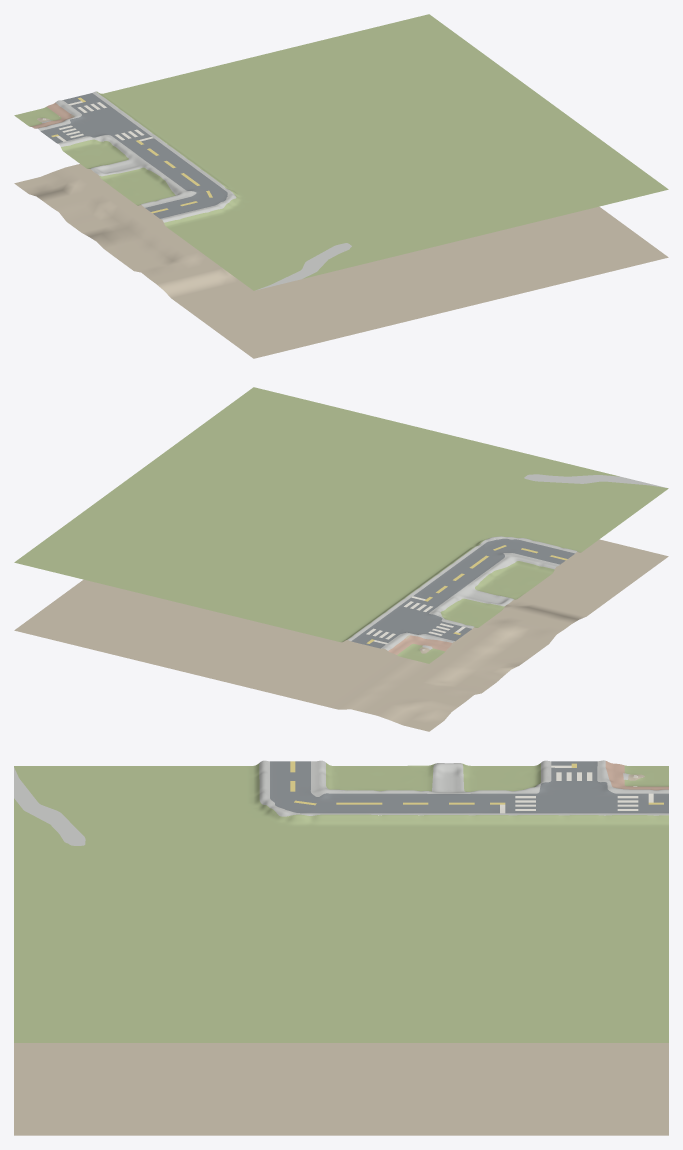
The picture shows the model from 3 angles, top to bottom: view 1: azimuth 30°, elevation 25°; view 2: azimuth 150°, elevation 25°; view 3: azimuth 270°, elevation 25°; orthographic projection. The views are drawn at different scales.
Visible parts, largest first — view 1: s_-4_5__grass, s_-4_5__soil, s_-4_5__asphalt, s_-4_5__stone_paving; view 2: s_-4_5__grass, s_-4_5__soil, s_-4_5__asphalt, s_-4_5__stone_paving, s_-4_5__brick_paving; view 3: s_-4_5__grass, s_-4_5__soil, s_-4_5__asphalt, s_-4_5__stone_paving, s_-4_5__white_marking, s_-4_5__yellow_marking, s_-4_5__brick_paving.
Boxes of the visible parts, x1,y1,x2,y2 form: s_-4_5__grass: [14, 14, 668, 290]; s_-4_5__soil: [14, 115, 668, 358]; s_-4_5__asphalt: [40, 93, 227, 218]; s_-4_5__stone_paving: [37, 91, 351, 290]; s_-4_5__grass: [14, 387, 668, 663]; s_-4_5__soil: [14, 539, 668, 731]; s_-4_5__asphalt: [351, 538, 574, 648]; s_-4_5__stone_paving: [347, 474, 666, 650]; s_-4_5__brick_paving: [388, 635, 451, 654]; s_-4_5__grass: [14, 763, 668, 1042]; s_-4_5__soil: [14, 774, 668, 1135]; s_-4_5__asphalt: [270, 761, 668, 813]; s_-4_5__stone_paving: [14, 760, 668, 845]; s_-4_5__white_marking: [500, 765, 653, 813]; s_-4_5__yellow_marking: [290, 761, 663, 805]; s_-4_5__brick_paving: [605, 761, 668, 790].
Bounding box in the file's own units: 128 × 21.43 × 128.
